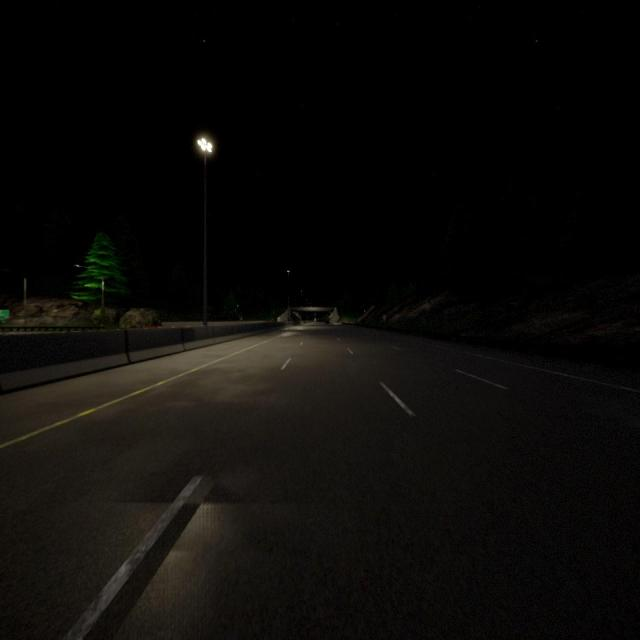Traffic_Signs: (382, 315, 387, 320), (240, 317, 243, 320)
Vehicle: (325, 320, 329, 324)
